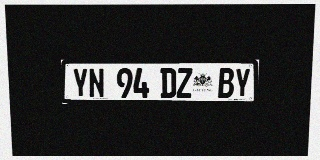4: (133, 68, 149, 98)
9: (117, 68, 133, 98)
B: (218, 68, 234, 98)
D: (160, 68, 176, 98)
N: (88, 68, 105, 98)
Y: (234, 68, 251, 98), (72, 68, 88, 98)
Z: (176, 68, 192, 98)
